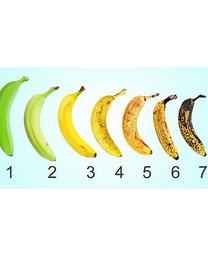banana: (1, 75, 207, 162)
